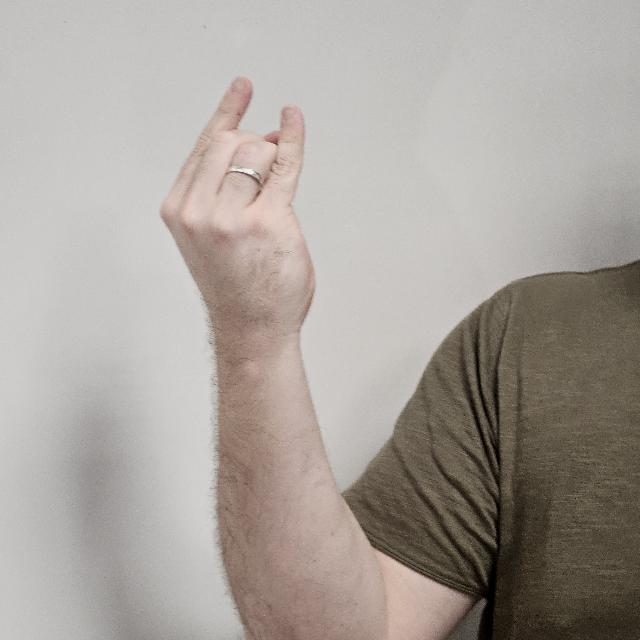L: (163, 66, 319, 354)
